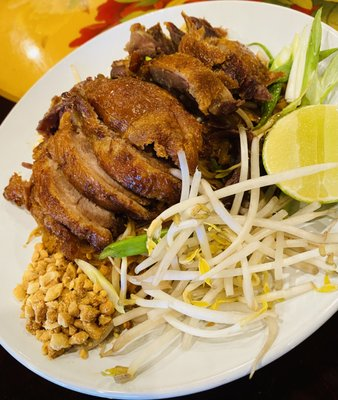curry: (0, 0, 337, 324)
